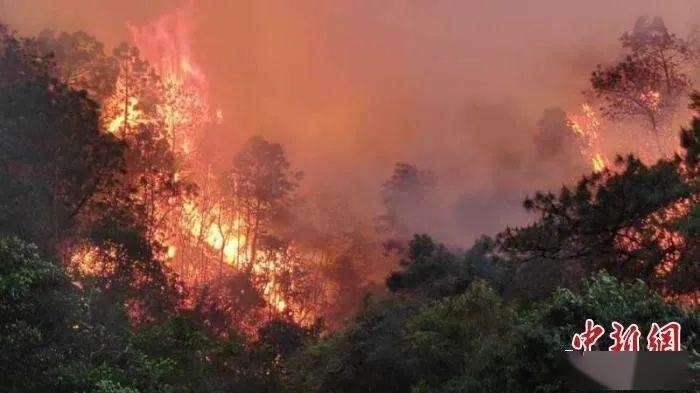fire: (58, 28, 312, 330), (565, 100, 610, 175)
